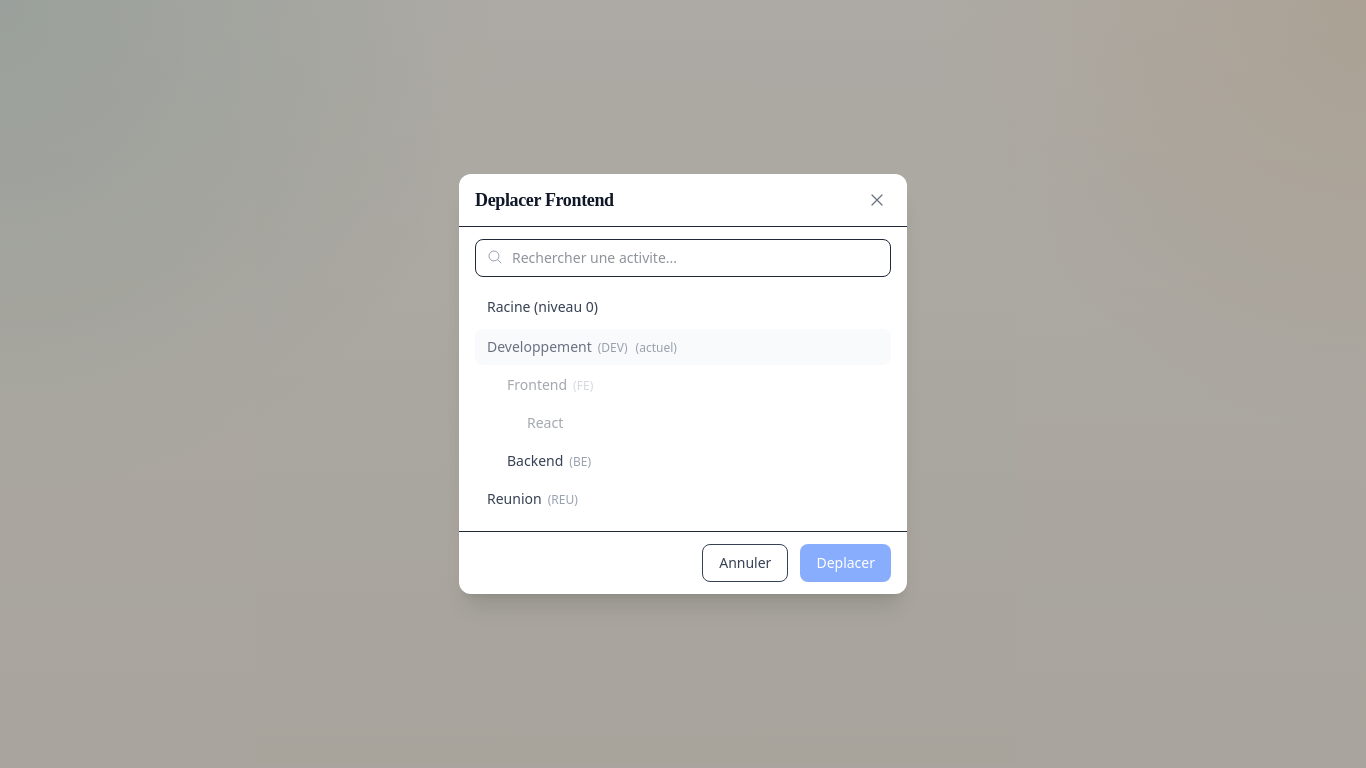
Test: SelectionParentModal › affiche un message quand la recherche ne trouve rien
This screenshot has width=1366, height=768.
Step 1. Type "zzzzz" into the field with placeholder "Rechercher une activite..." → (683, 258), box 475,239 -> 891,277
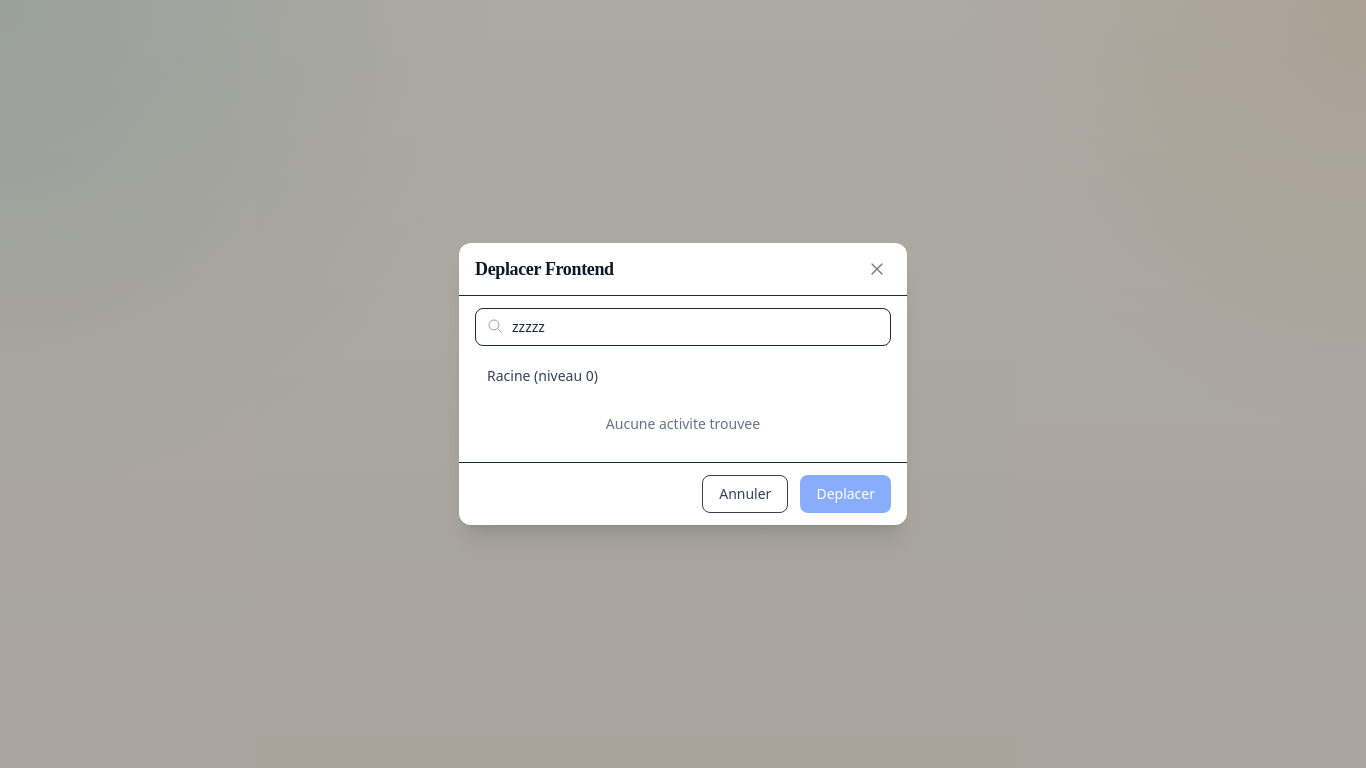
Expected: the text "Aucune activite trouvee" is shown, 606,414 -> 760,433
